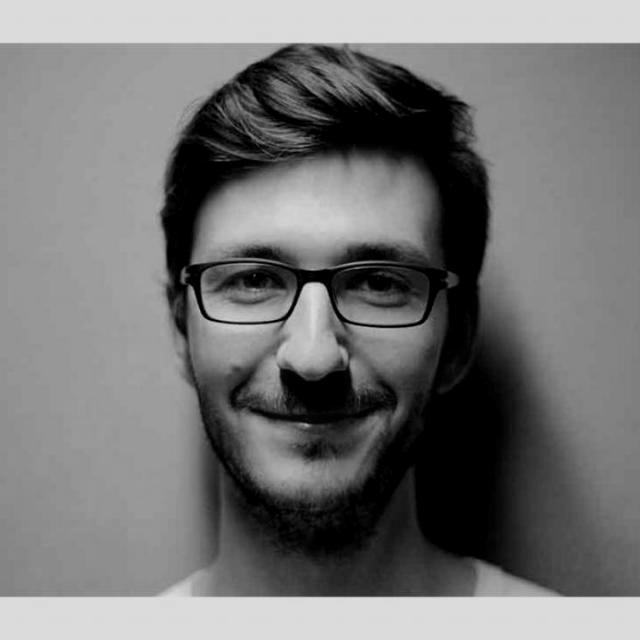real: (191, 164, 435, 511)
